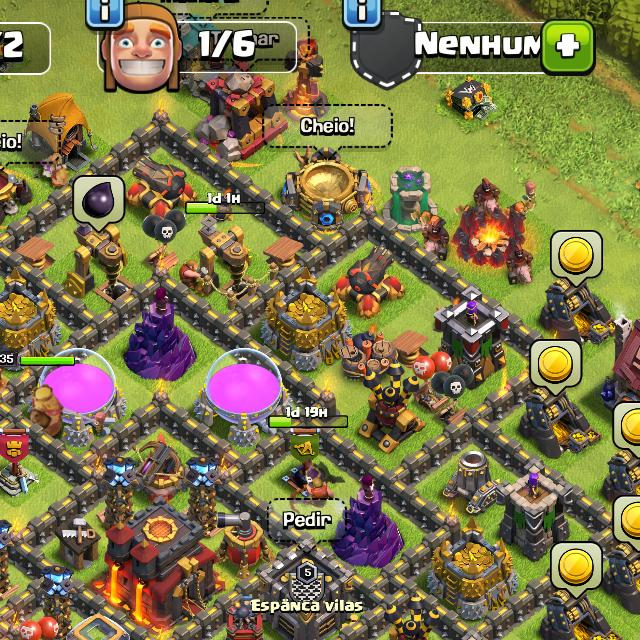ElixirNegro: (72, 175, 127, 233)
coin: (529, 339, 583, 396), (550, 230, 604, 286), (551, 542, 603, 594), (612, 401, 640, 458), (612, 494, 640, 551)
